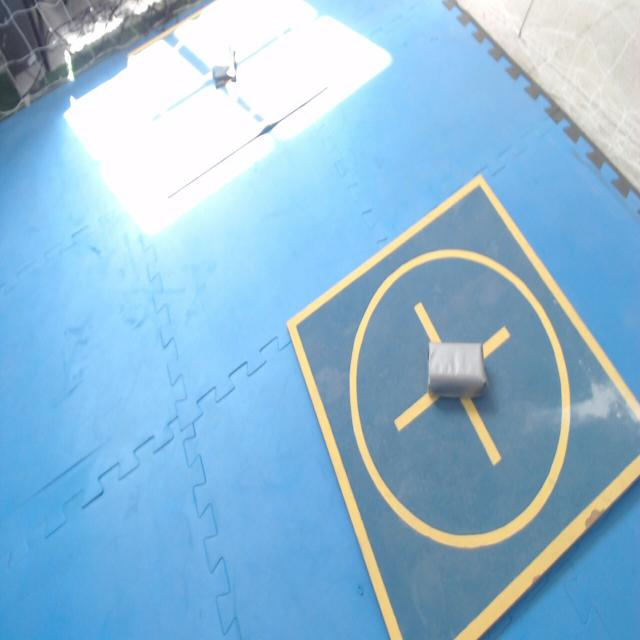lipo: (428, 339, 487, 398), (212, 38, 236, 88)
